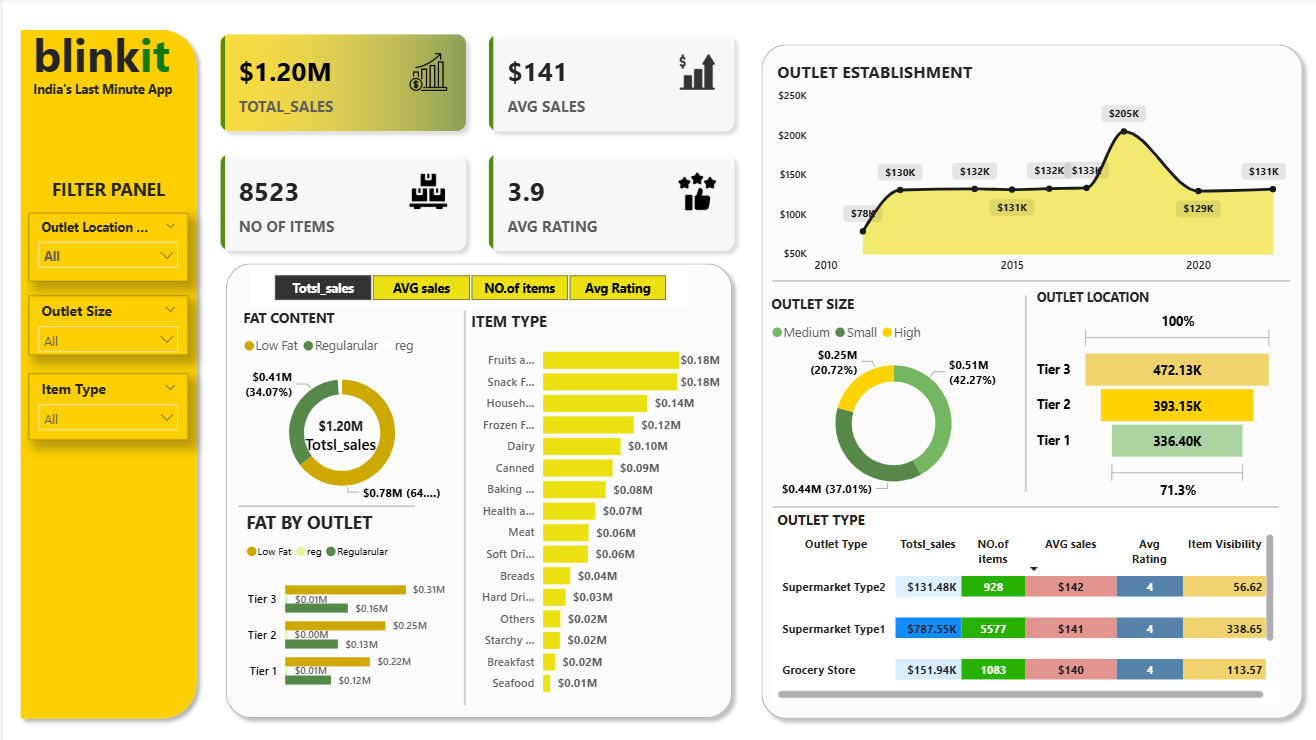

What the dashboard file says about the page in this screenshot:
{"tool":"powerbi","page":{"name":"Page 1","canvas":[1400,800],"ordinal":0},"visuals":[{"type":"shape","box":[8.8,24.7,205,749.4],"z":0},{"type":"textbox","box":[262.5,634.6,204.6,115.7],"z":1000},{"type":"textbox","box":[26.5,23,169.7,86.6],"z":2000},{"type":"textbox","box":[26.5,83.1,169.7,46],"z":3000},{"type":"cardVisual","fields":{"Data":["BlinkIT Grocery Data.Totsl_sales","BlinkIT Grocery Data.AVG sales","BlinkIT Grocery Data.NO.of items","BlinkIT Grocery Data.Avg Rating"]},"box":[213.8,23,581.5,265.1],"z":4000},{"type":"shape","box":[228,273.9,554.9,500.2],"z":5000},{"type":"donutChart","title":"FAT CONTENT","fields":{"Y":["BlinkIT Grocery Data.Totsl_sales"],"Category":["BlinkIT Grocery Data.Item Fat Content"]},"box":[249.2,328.7,219.2,215.6],"z":6000},{"type":"slicer","fields":{"Values":["Metrics.Metrics"]},"box":[263.3,288.1,464.8,40.6],"z":7000},{"type":"cardVisual","fields":{"Data":["BlinkIT Grocery Data.Totsl_sales","BlinkIT Grocery Data.Totsl_sales"]},"box":[291.6,427.7,134.3,60.1],"z":8000},{"type":"clusteredBarChart","title":"FAT BY OUTLET","fields":{"Y":["BlinkIT Grocery Data.Totsl_sales"],"Category":["BlinkIT Grocery Data.Outlet Location Type"],"Series":["BlinkIT Grocery Data.Item Fat Content"]},"box":[252.7,544.3,220.9,206.8],"z":9000},{"type":"shape","box":[249.2,524.9,187.3,30],"z":10000},{"type":"shape","box":[484.3,332.3,12.4,418.9],"z":11000},{"type":"barChart","title":"ITEM TYPE","fields":{"Y":["BlinkIT Grocery Data.Totsl_sales"],"Category":["BlinkIT Grocery Data.Item Type"]},"box":[491.3,332.3,273.9,418.9],"z":12000},{"type":"shape","box":[795.3,40.6,592.1,733.4],"z":13000},{"type":"lineChart","title":"OUTLET ESTABLISHMENT","fields":{"Y":["BlinkIT Grocery Data.Totsl_sales"],"Category":["BlinkIT Grocery Data.Outlet Establishment Year"]},"box":[816.5,67.2,549.6,235.1],"z":14000},{"type":"shape","box":[816.5,288.1,549.6,26.5],"z":15000},{"type":"donutChart","title":"OUTLET SIZE","fields":{"Y":["BlinkIT Grocery Data.Totsl_sales"],"Category":["BlinkIT Grocery Data.Outlet Size"]},"box":[810.1,315.1,269,224.4],"z":16000},{"type":"shape","box":[1079.8,316.4,12.4,208.5],"z":17000},{"type":"funnel","title":"OUTLET LOCATION","fields":{"Category":["BlinkIT Grocery Data.Outlet Location Type"],"Y":["Sum(BlinkIT Grocery Data.Sales)"]},"box":[1092.2,309.3,261,230],"z":18000},{"type":"shape","box":[816.5,524.9,537.3,31.8],"z":19000},{"type":"pivotTable","title":"OUTLET TYPE","fields":{"Rows":["BlinkIT Grocery Data.Outlet Type"],"Values":["BlinkIT Grocery Data.Totsl_sales","BlinkIT Grocery Data.NO.of items","BlinkIT Grocery Data.AVG sales","BlinkIT Grocery Data.Avg Rating","Sum(BlinkIT Grocery Data.Item Visibility)"]},"box":[816.5,544.3,537.3,205],"z":20000},{"type":"slicer","fields":{"Values":["BlinkIT Grocery Data.Outlet Location Type"]},"box":[26.5,229.8,169.7,72.5],"z":21000},{"type":"slicer","fields":{"Values":["BlinkIT Grocery Data.Outlet Size"]},"box":[26.5,316.4,169.7,63.6],"z":22000},{"type":"slicer","fields":{"Values":["BlinkIT Grocery Data.Item Type"]},"box":[26.5,399.4,169.7,70.7],"z":23000},{"type":"textbox","box":[26.5,185.6,169.7,44.2],"z":24000}]}

Visuals, with their boxes in screenshot pixels (x1, y1, x2, y2), scaled from the page's 1400x800 canvas onto the 1316x740 screenshot:
shape: box(8, 23, 201, 716)
textbox: box(247, 587, 439, 694)
textbox: box(25, 21, 184, 101)
textbox: box(25, 77, 184, 119)
cardVisual - BlinkIT Grocery Data.Totsl_sales x BlinkIT Grocery Data.AVG sales: box(201, 21, 748, 266)
shape: box(214, 253, 736, 716)
"FAT CONTENT" donutChart: box(234, 304, 440, 503)
slicer - Metrics.Metrics: box(248, 266, 684, 304)
cardVisual - BlinkIT Grocery Data.Totsl_sales x BlinkIT Grocery Data.Totsl_sales: box(274, 396, 400, 451)
"FAT BY OUTLET" clusteredBarChart: box(238, 503, 445, 695)
shape: box(234, 486, 410, 513)
shape: box(455, 307, 467, 695)
"ITEM TYPE" barChart: box(462, 307, 719, 695)
shape: box(748, 38, 1304, 716)
"OUTLET ESTABLISHMENT" lineChart: box(768, 62, 1284, 280)
shape: box(768, 266, 1284, 291)
"OUTLET SIZE" donutChart: box(761, 291, 1014, 499)
shape: box(1015, 293, 1027, 486)
"OUTLET LOCATION" funnel: box(1027, 286, 1272, 499)
shape: box(768, 486, 1273, 515)
"OUTLET TYPE" pivotTable: box(768, 503, 1273, 693)
slicer - BlinkIT Grocery Data.Outlet Location Type: box(25, 213, 184, 280)
slicer - BlinkIT Grocery Data.Outlet Size: box(25, 293, 184, 352)
slicer - BlinkIT Grocery Data.Item Type: box(25, 369, 184, 435)
textbox: box(25, 172, 184, 213)
